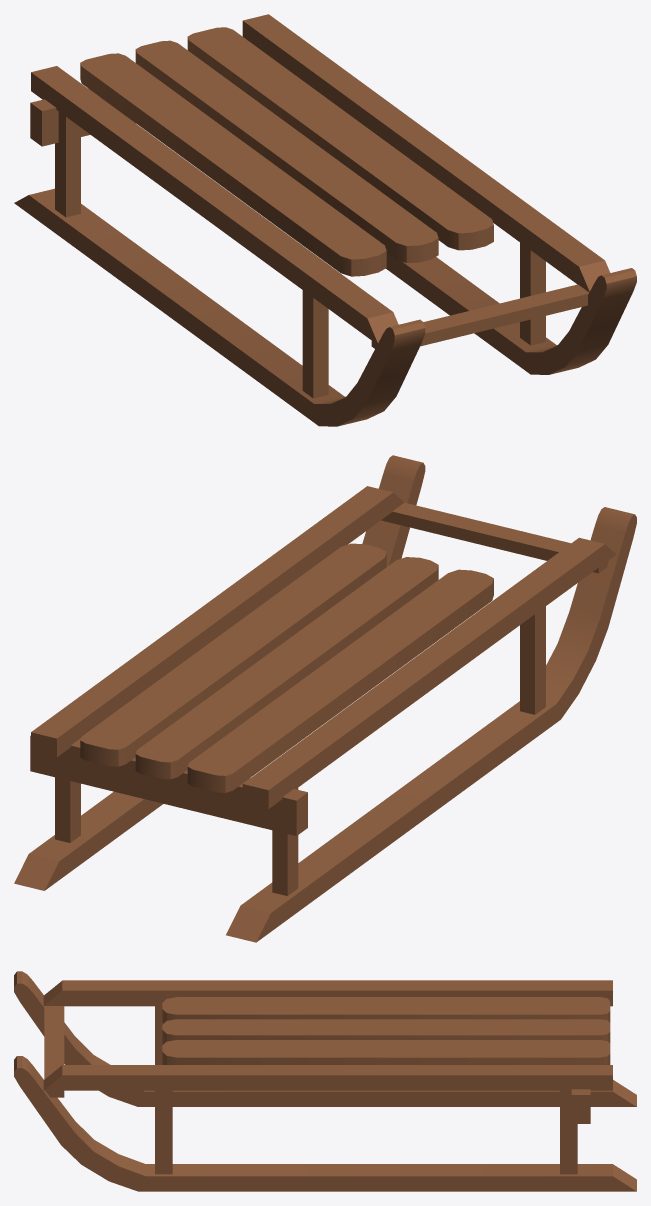
Rendered from Sleigh_01.fbx.
3 renders of one model, top to bottom at view 1: azimuth 30°, elevation 25°; view 2: azimuth 150°, elevation 25°; view 3: azimuth 270°, elevation 25°, orthographic. The views are drawn at different scales.
Visible parts, largest first — view 1: Sleigh_01; view 2: Sleigh_01; view 3: Sleigh_01.
Boxes of the visible parts, bbox=[...] form: Sleigh_01: bbox=[14, 14, 636, 426]; Sleigh_01: bbox=[14, 455, 636, 942]; Sleigh_01: bbox=[14, 971, 636, 1191].
Size of the model in its own units: 0.3691 by 0.2003 by 0.9146.
